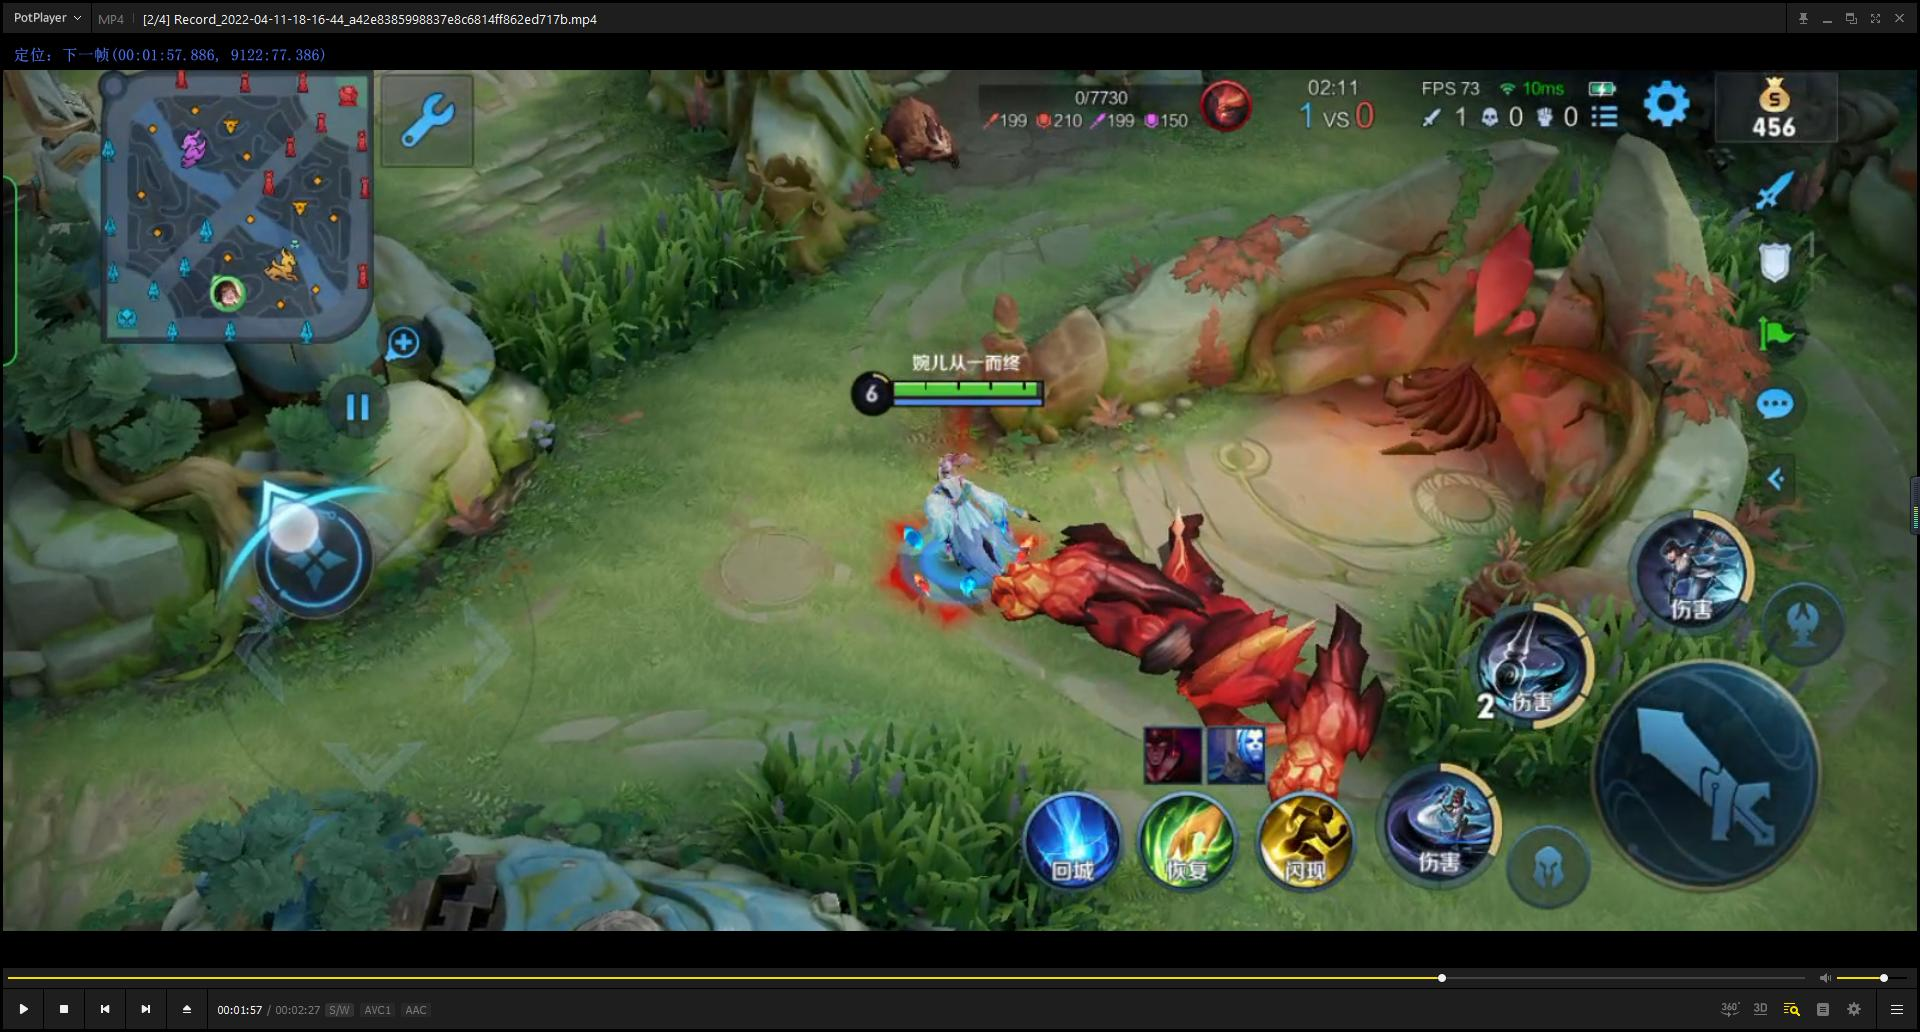Buff: (987, 473, 1391, 799)
Hero: (865, 432, 1022, 627)
Pig: (877, 90, 972, 180)
